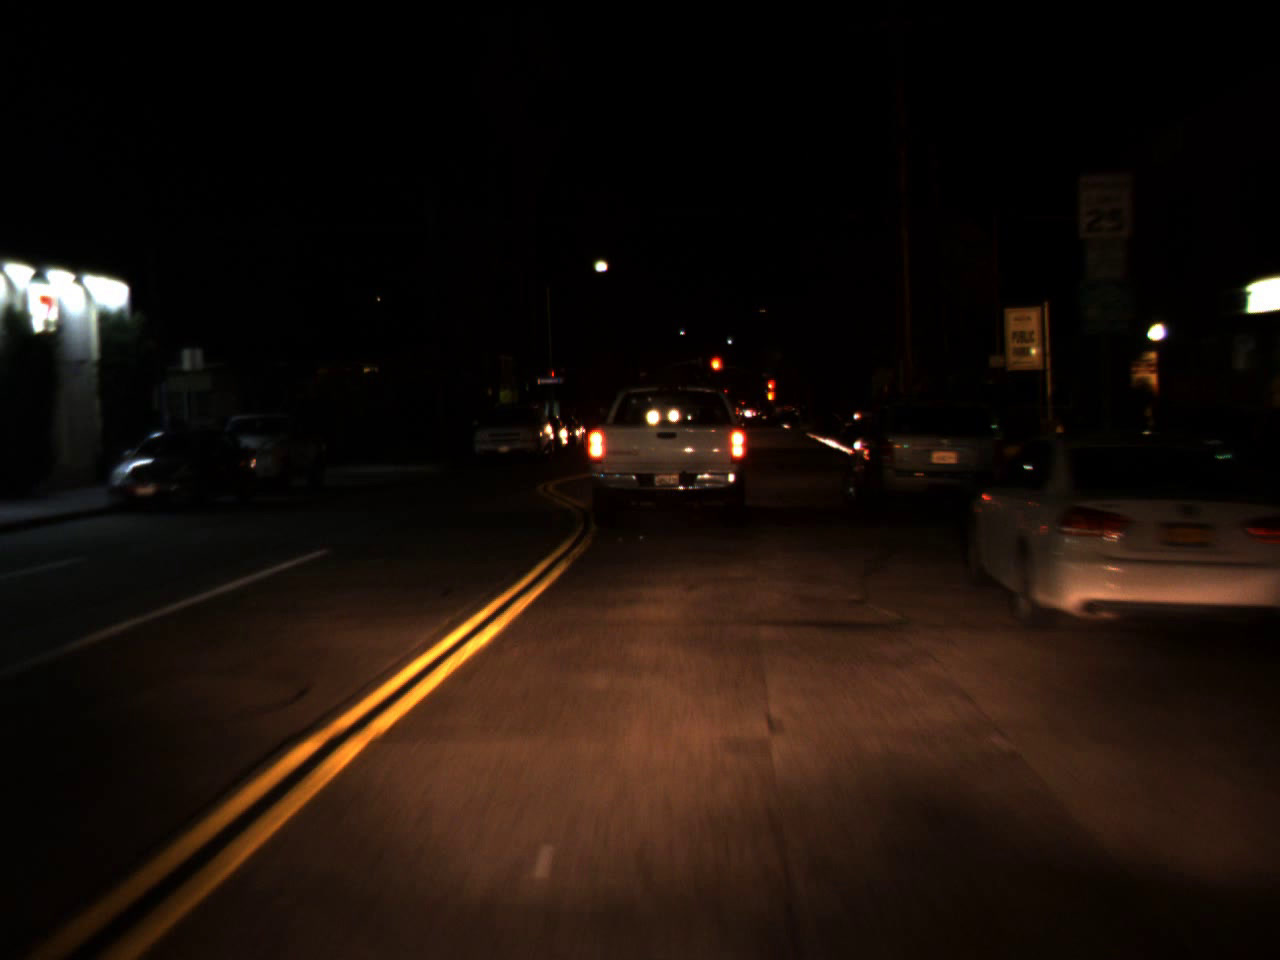stop: (708, 355, 723, 387), (766, 379, 778, 403)
